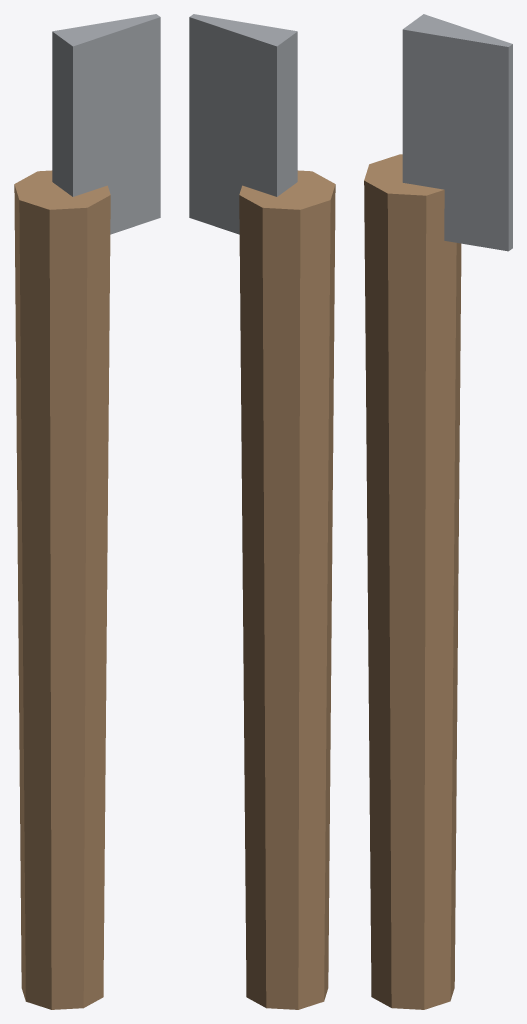
The model's file is axe_hatchet.glb.
The picture shows the model from 3 angles, left to right: view 1: azimuth 30°, elevation 25°; view 2: azimuth 150°, elevation 25°; view 3: azimuth 330°, elevation 25°; orthographic projection.
Parts seen in each view (by area): view 1: axe_hatchet; view 2: axe_hatchet; view 3: axe_hatchet.
Boxes of the visible parts, left/top/right/bottom form: axe_hatchet: left=14, top=14, right=160, bottom=1009; axe_hatchet: left=189, top=14, right=335, bottom=1009; axe_hatchet: left=364, top=14, right=512, bottom=1009.
Size of the model in its own units: 0.058 by 0.38 by 0.036.
